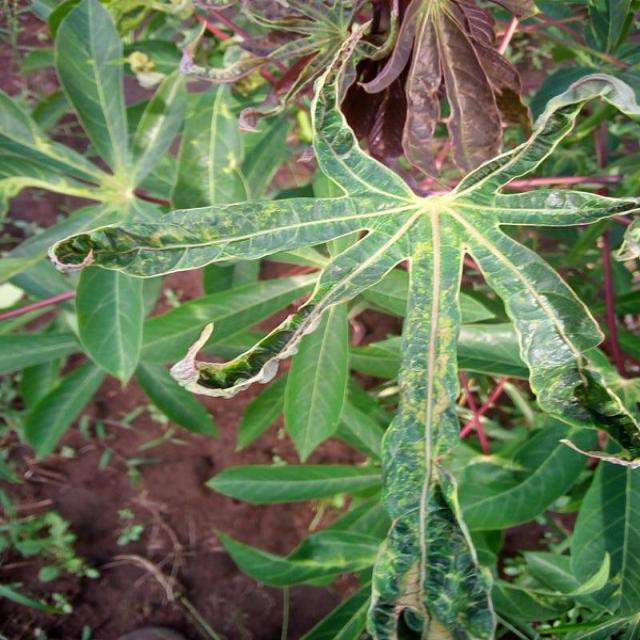cassava leaf: (47, 33, 638, 637)
